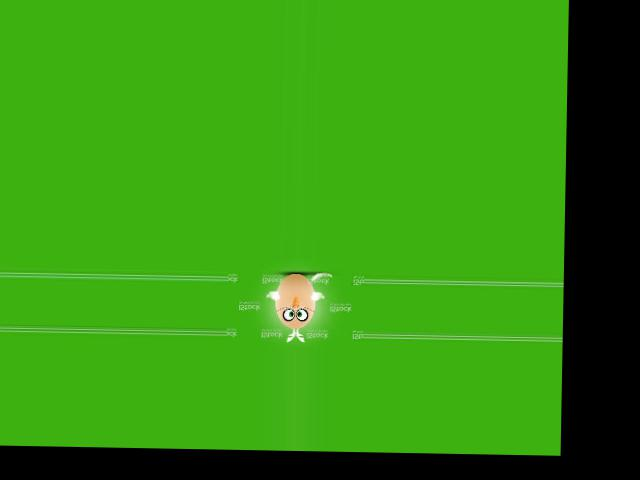egg: (275, 272, 316, 329)
